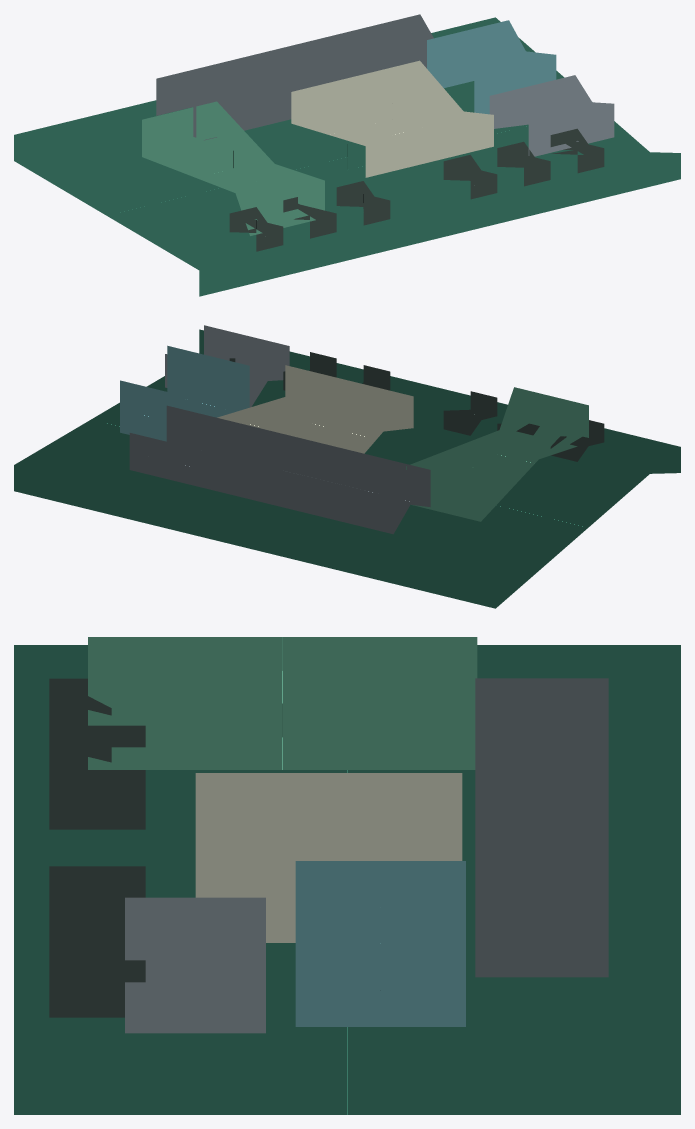
Rendered from motherboard.gltf.
3 renders of one model, top to bottom at view 1: azimuth 30°, elevation 25°; view 2: azimuth 150°, elevation 25°; view 3: azimuth 270°, elevation 25°, orthographic. The views are drawn at different scales.
Parts seen in each view (by area): view 1: MOTHERBOARD, CPU, GPU, RAM, COOLING, SSD, SLOT_2, SLOT_3, SLOT_4, SLOT_0, SLOT_5, SLOT_1; view 2: MOTHERBOARD, GPU, RAM, CPU, COOLING, SSD, SLOT_2, SLOT_0, SLOT_4, SLOT_3; view 3: MOTHERBOARD, RAM, GPU, CPU, COOLING, SSD, SLOT_2, SLOT_5, SLOT_3, SLOT_1, SLOT_4, SLOT_0.
Boxes of the visible parts, x1,y1,x2,y2 form: MOTHERBOARD: [14, 17, 680, 296]; CPU: [291, 60, 493, 177]; GPU: [156, 14, 433, 140]; RAM: [142, 101, 324, 235]; COOLING: [427, 20, 556, 114]; SSD: [489, 75, 614, 156]; SLOT_2: [336, 181, 390, 225]; SLOT_3: [443, 154, 497, 199]; SLOT_4: [497, 141, 550, 186]; SLOT_0: [229, 207, 283, 251]; SLOT_5: [550, 128, 604, 173]; SLOT_1: [283, 197, 336, 238]; MOTHERBOARD: [14, 329, 680, 608]; GPU: [129, 405, 430, 534]; RAM: [406, 387, 588, 521]; CPU: [217, 365, 413, 453]; COOLING: [120, 345, 249, 441]; SSD: [165, 325, 289, 407]; SLOT_2: [443, 391, 497, 435]; SLOT_0: [550, 420, 604, 461]; SLOT_4: [283, 352, 336, 390]; SLOT_3: [362, 365, 390, 390]; MOTHERBOARD: [14, 645, 680, 1114]; RAM: [88, 637, 477, 769]; GPU: [475, 678, 608, 977]; CPU: [195, 773, 462, 942]; COOLING: [295, 861, 465, 1026]; SSD: [125, 897, 265, 1033]; SLOT_2: [49, 772, 145, 829]; SLOT_5: [49, 960, 145, 1017]; SLOT_3: [49, 866, 145, 913]; SLOT_1: [49, 725, 145, 772]; SLOT_4: [49, 913, 124, 960]; SLOT_0: [49, 678, 111, 725].
Size of the model in its own units: 5.4 by 0.84 by 3.6.
